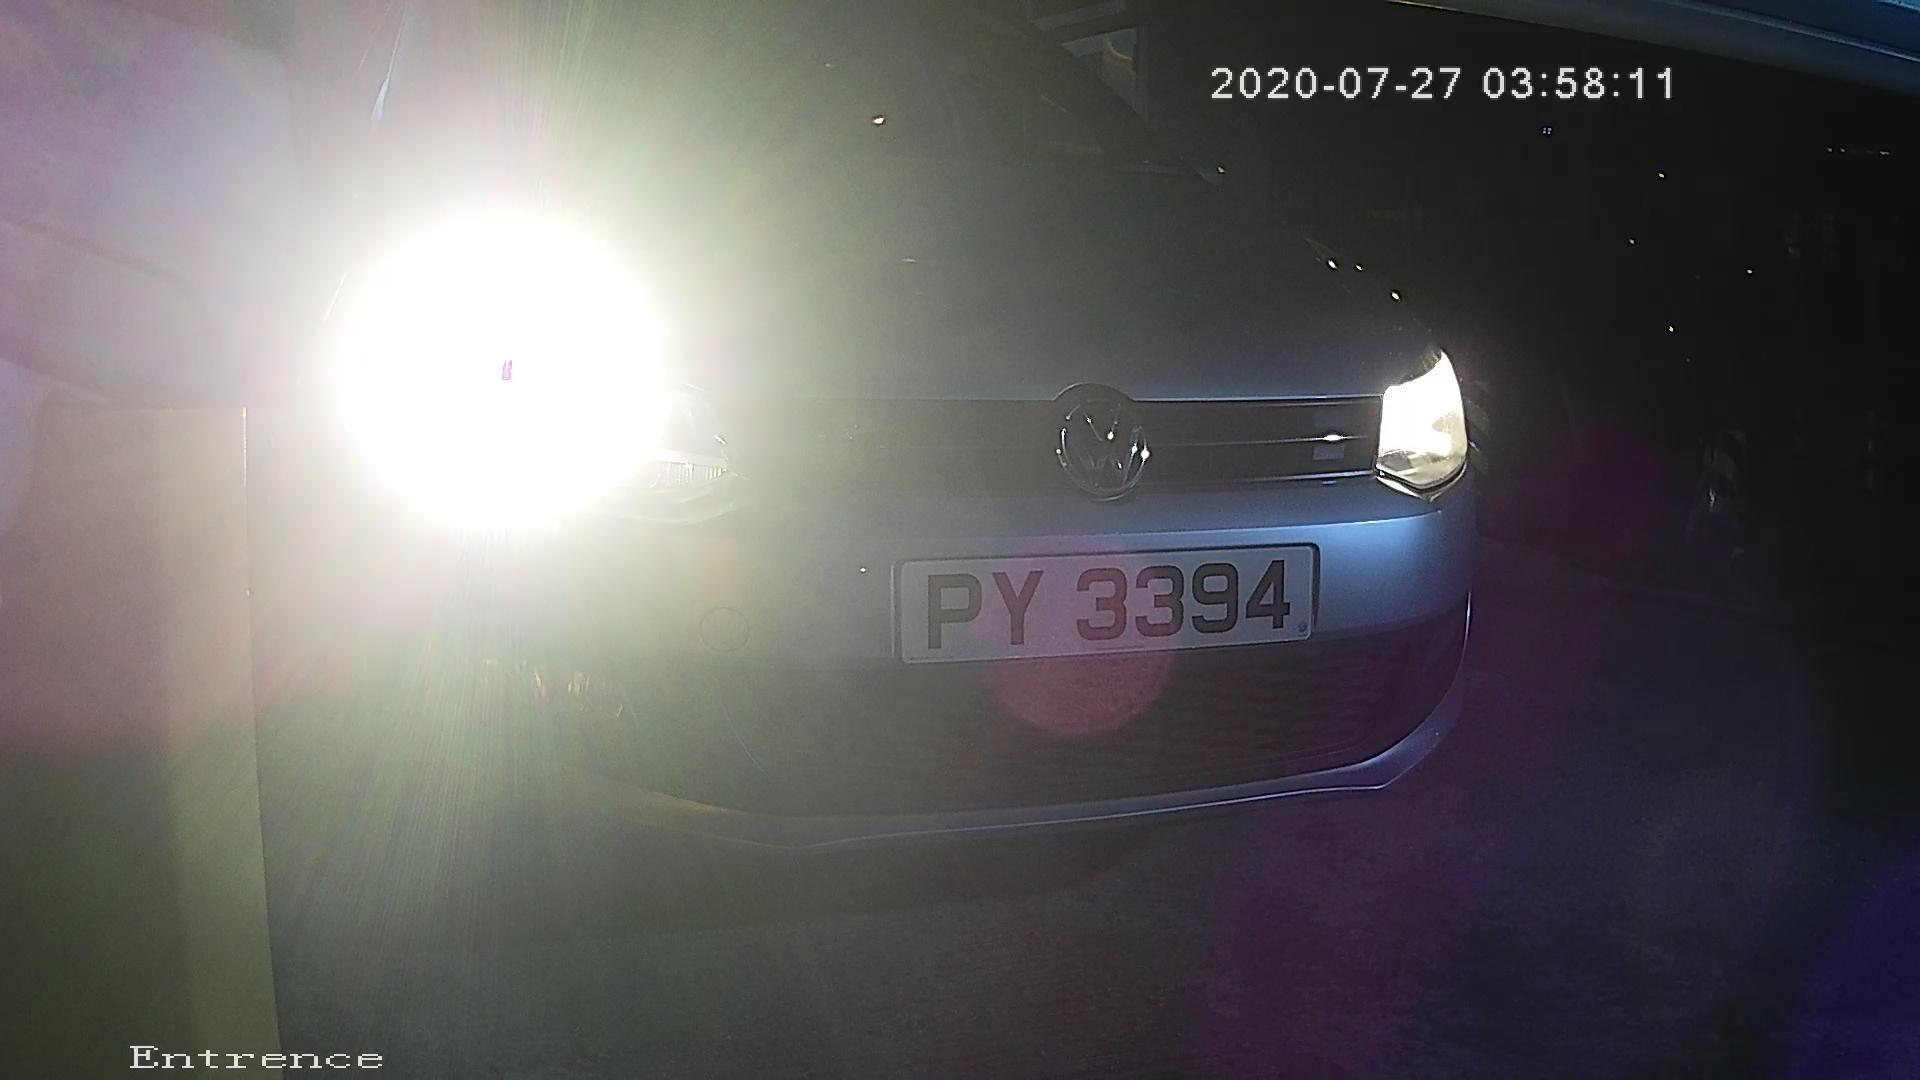License Plate: (857, 502, 1339, 700)
